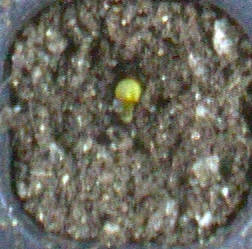pepper seed: (44, 26, 185, 130)
